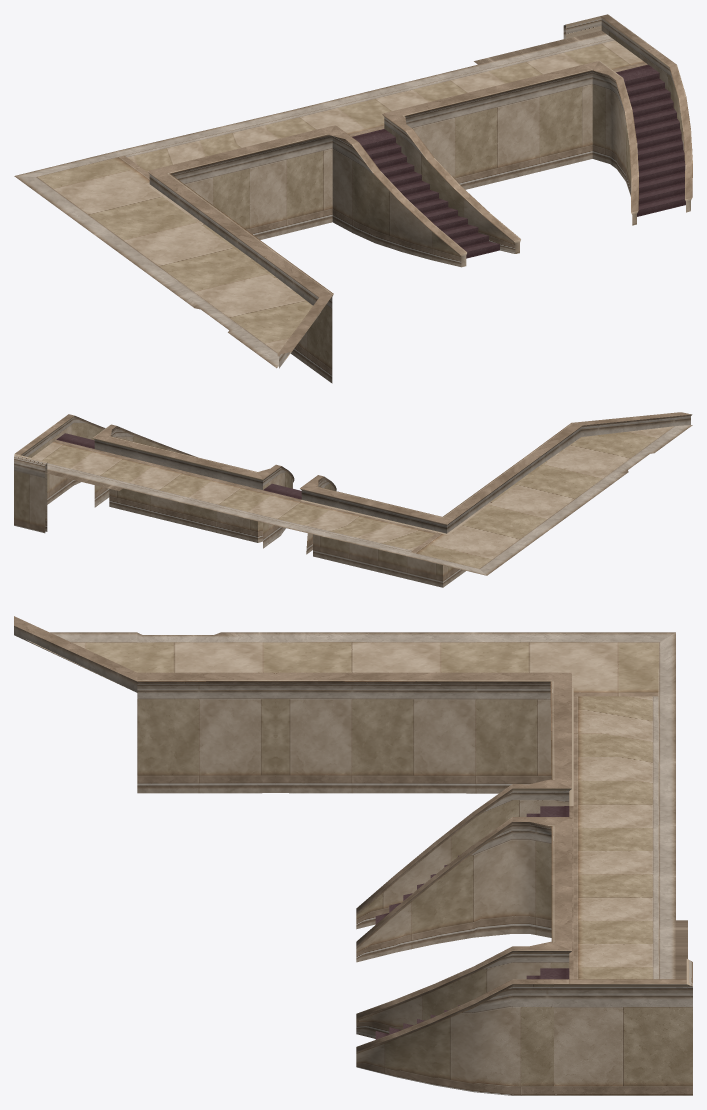
The model's file is Cor1_prop_outside_stairs.fbx.
The picture shows the model from 3 angles, top to bottom: view 1: azimuth 30°, elevation 25°; view 2: azimuth 150°, elevation 25°; view 3: azimuth 270°, elevation 25°; orthographic projection. The views are drawn at different scales.
Visible parts, largest first — view 1: Cor1_prop_outside_stairs_msh1, polymsh1167, polymsh1164; view 2: polymsh1167, Cor1_prop_outside_stairs_msh1, polymsh1164; view 3: Cor1_prop_outside_stairs_msh1, polymsh1167, polymsh1164.
Part boxes in pixels (x1,y1,x2,y2): Cor1_prop_outside_stairs_msh1: [147, 14, 692, 383]; polymsh1167: [14, 30, 647, 368]; polymsh1164: [352, 64, 685, 258]; polymsh1167: [32, 412, 692, 575]; Cor1_prop_outside_stairs_msh1: [14, 414, 582, 587]; polymsh1164: [56, 433, 301, 499]; Cor1_prop_outside_stairs_msh1: [137, 672, 692, 1095]; polymsh1167: [14, 616, 687, 979]; polymsh1164: [375, 806, 569, 1039].
Size of what is drawn, in the model's own units: 33.47 by 4.82 by 26.11.
